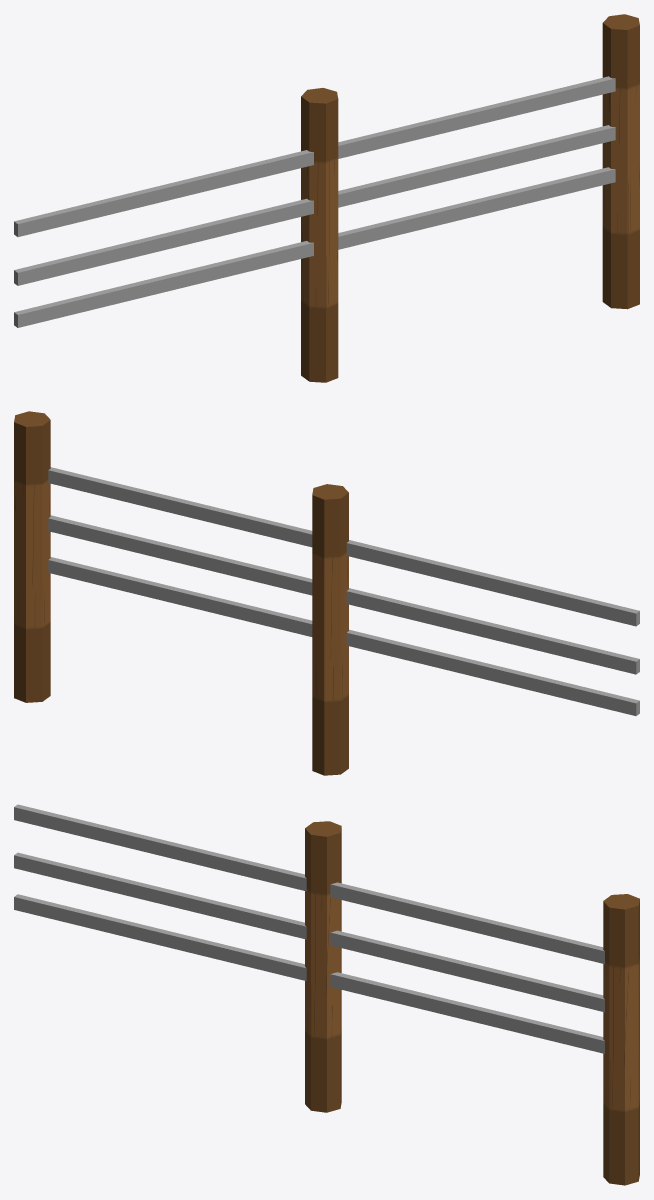
The model's file is 1Fence.fbx.
The picture shows the model from 3 angles, top to bottom: view 1: azimuth 30°, elevation 25°; view 2: azimuth 150°, elevation 25°; view 3: azimuth 330°, elevation 25°; orthographic projection.
Visible parts, largest first — view 1: pCylinder2, pCylinder3, pCube1, pCube3, pCube2; view 2: pCylinder2, pCylinder3, pCube1, pCube2, pCube3; view 3: pCylinder3, pCylinder2, pCube2, pCube1, pCube3.
Boxes of the visible parts, bbox=[...] form: pCylinder2: bbox=[301, 88, 338, 382]; pCylinder3: bbox=[602, 14, 639, 309]; pCube1: bbox=[14, 125, 615, 285]; pCube3: bbox=[14, 167, 615, 327]; pCube2: bbox=[14, 76, 615, 236]; pCylinder2: bbox=[312, 484, 348, 775]; pCylinder3: bbox=[14, 411, 50, 702]; pCube1: bbox=[48, 515, 639, 674]; pCube2: bbox=[48, 467, 639, 626]; pCube3: bbox=[48, 557, 639, 715]; pCylinder3: bbox=[603, 894, 639, 1185]; pCylinder2: bbox=[305, 821, 341, 1112]; pCube2: bbox=[14, 804, 604, 963]; pCube1: bbox=[14, 852, 604, 1012]; pCube3: bbox=[14, 894, 604, 1053].
Bounding box in the file's own units: 37.48 × 15.96 × 1.95.
